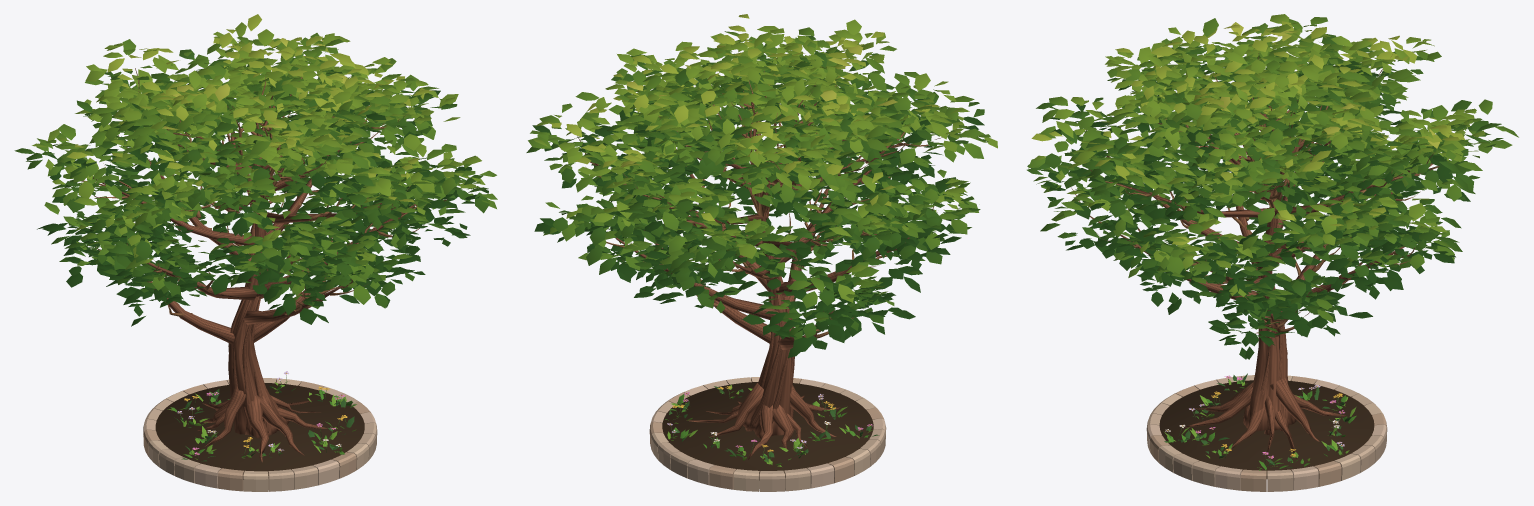
Rendered from tree-near.glb.
3 renders of one model, left to right at view 1: azimuth 30°, elevation 25°; view 2: azimuth 150°, elevation 25°; view 3: azimuth 270°, elevation 25°, orthographic. The views are drawn at different scales.
Parts seen in each view (by area): view 1: Dense modeled canopy · pigment 1, Flared buttress root, Topsoil filled planter, Individually bevelled sandstone voussoir, Radial branch toward leaf tip, Broad-leaved groundcover; view 2: Dense modeled canopy · pigment 1, Topsoil filled planter, Flared buttress root, Individually bevelled sandstone voussoir, Radial branch toward leaf tip, Broad-leaved groundcover; view 3: Dense modeled canopy · pigment 1, Topsoil filled planter, Flared buttress root, Individually bevelled sandstone voussoir, Radial branch toward leaf tip, Broad-leaved groundcover.
Boxes of the visible parts, bbox=[...] form: Dense modeled canopy · pigment 1: bbox=[14, 14, 497, 326]; Flared buttress root: bbox=[93, 106, 415, 462]; Topsoil filled planter: bbox=[155, 380, 364, 479]; Individually bevelled sandstone voussoir: bbox=[143, 378, 377, 491]; Radial branch toward leaf tip: bbox=[81, 55, 446, 316]; Broad-leaved groundcover: bbox=[167, 381, 356, 461]; Dense modeled canopy · pigment 1: bbox=[526, 14, 997, 357]; Topsoil filled planter: bbox=[660, 379, 874, 480]; Flared buttress root: bbox=[594, 90, 909, 459]; Individually bevelled sandstone voussoir: bbox=[649, 377, 886, 491]; Radial branch toward leaf tip: bbox=[577, 66, 942, 338]; Broad-leaved groundcover: bbox=[665, 385, 879, 466]; Dense modeled canopy · pigment 1: bbox=[1027, 14, 1518, 359]; Topsoil filled planter: bbox=[1159, 380, 1374, 478]; Flared buttress root: bbox=[1107, 86, 1432, 458]; Individually bevelled sandstone voussoir: bbox=[1146, 375, 1387, 491]; Radial branch toward leaf tip: bbox=[1071, 53, 1448, 333]; Broad-leaved groundcover: bbox=[1164, 373, 1356, 470].
Size of the model in its own units: 4.26 by 3.93 by 4.42.
Materials: 9 (2 with a texture image).
